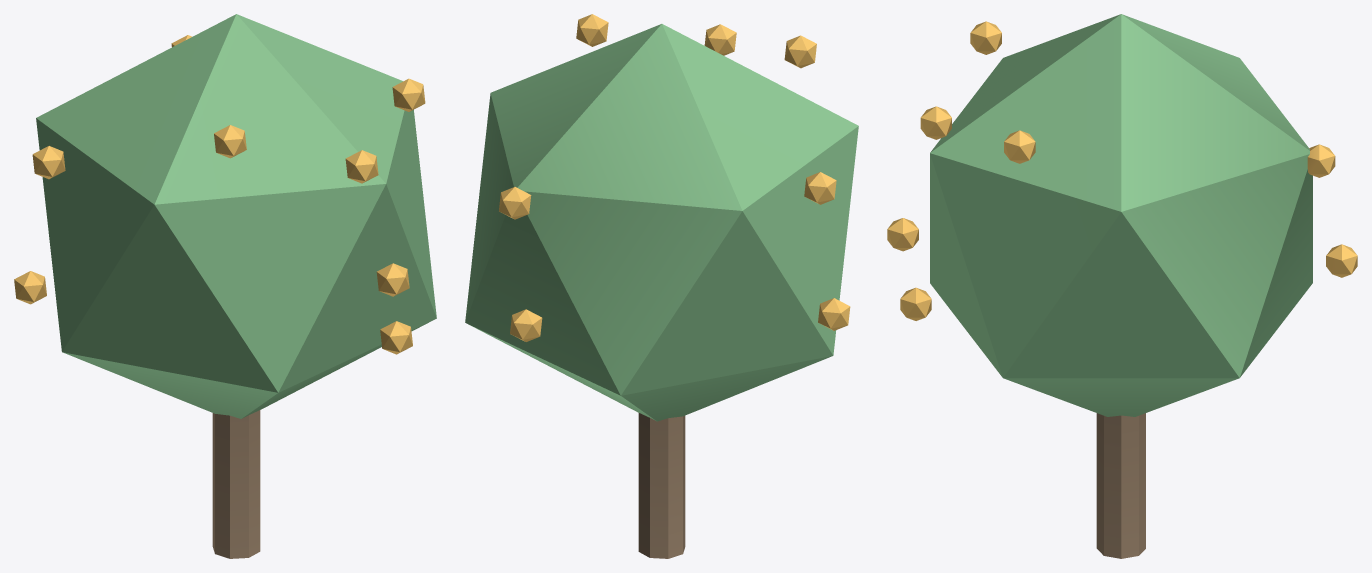
File: Prop_OrangeTree.fbx
3 renders of one model, left to right at view 1: azimuth 30°, elevation 25°; view 2: azimuth 150°, elevation 25°; view 3: azimuth 270°, elevation 25°, orthographic.
Visible parts, largest first — view 1: Prop_OrangeTree; view 2: Prop_OrangeTree; view 3: Prop_OrangeTree.
Part boxes in pixels (<box>): Prop_OrangeTree: <box>14,14,436,558</box>; Prop_OrangeTree: <box>465,14,858,558</box>; Prop_OrangeTree: <box>887,14,1357,558</box>.
Size of the model in its own units: 2.12 by 2.86 by 2.28.
